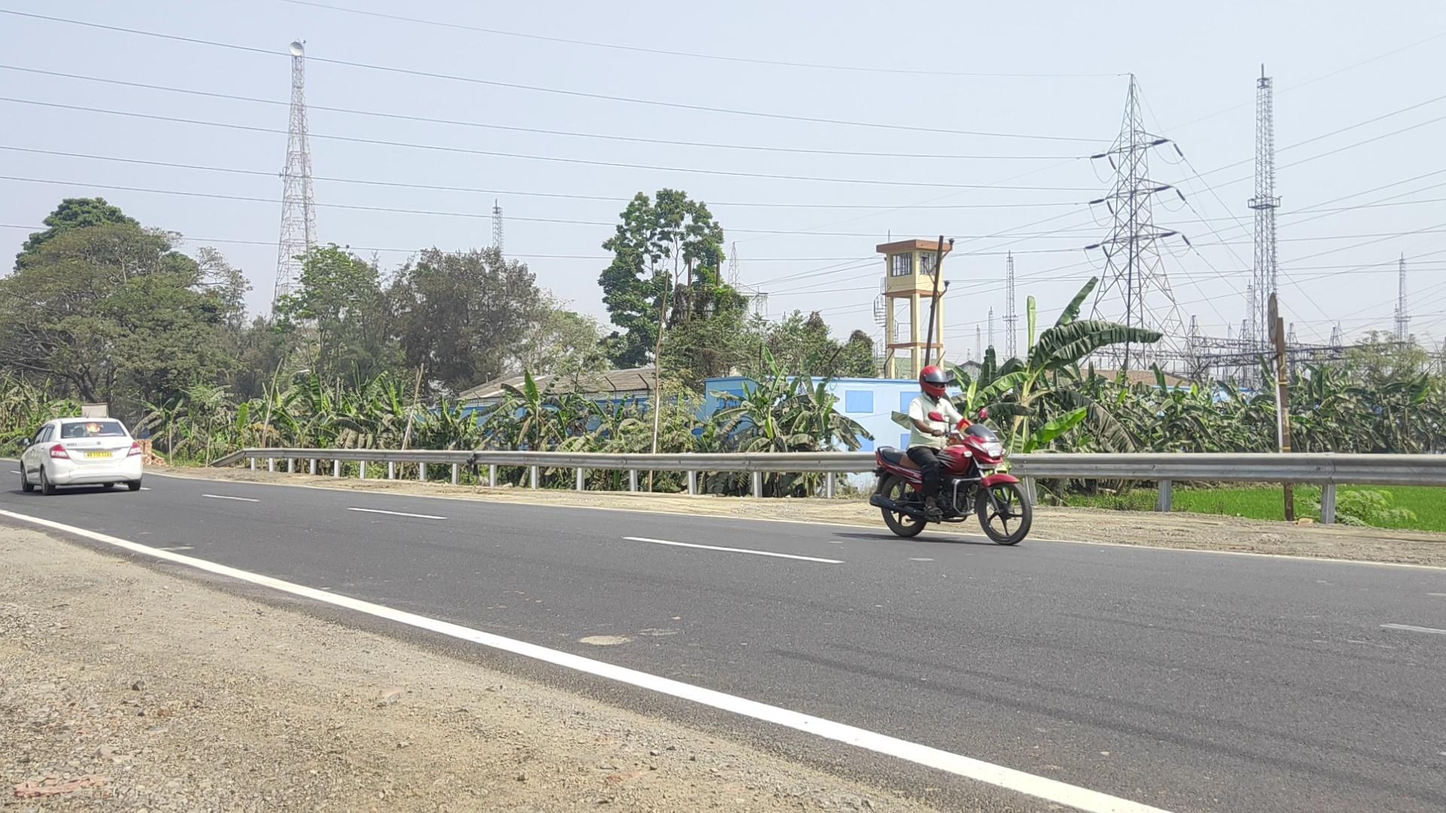bike: (870, 366, 1033, 546)
car: (20, 417, 144, 495)
